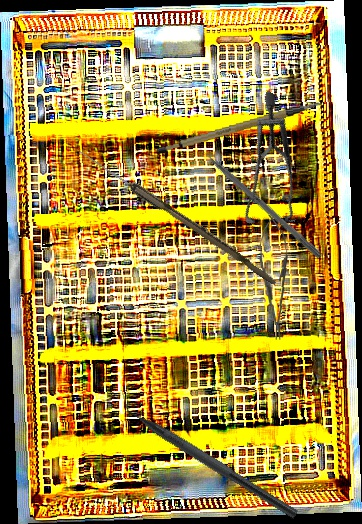Chopper: (108, 387, 307, 520)
Needle Holder: (256, 214, 293, 341)
Pusher: (190, 137, 324, 260)
Scalpel Handle: (153, 101, 327, 157)
Speculum: (201, 90, 347, 244)
Surgical Spoon: (76, 147, 280, 286)
